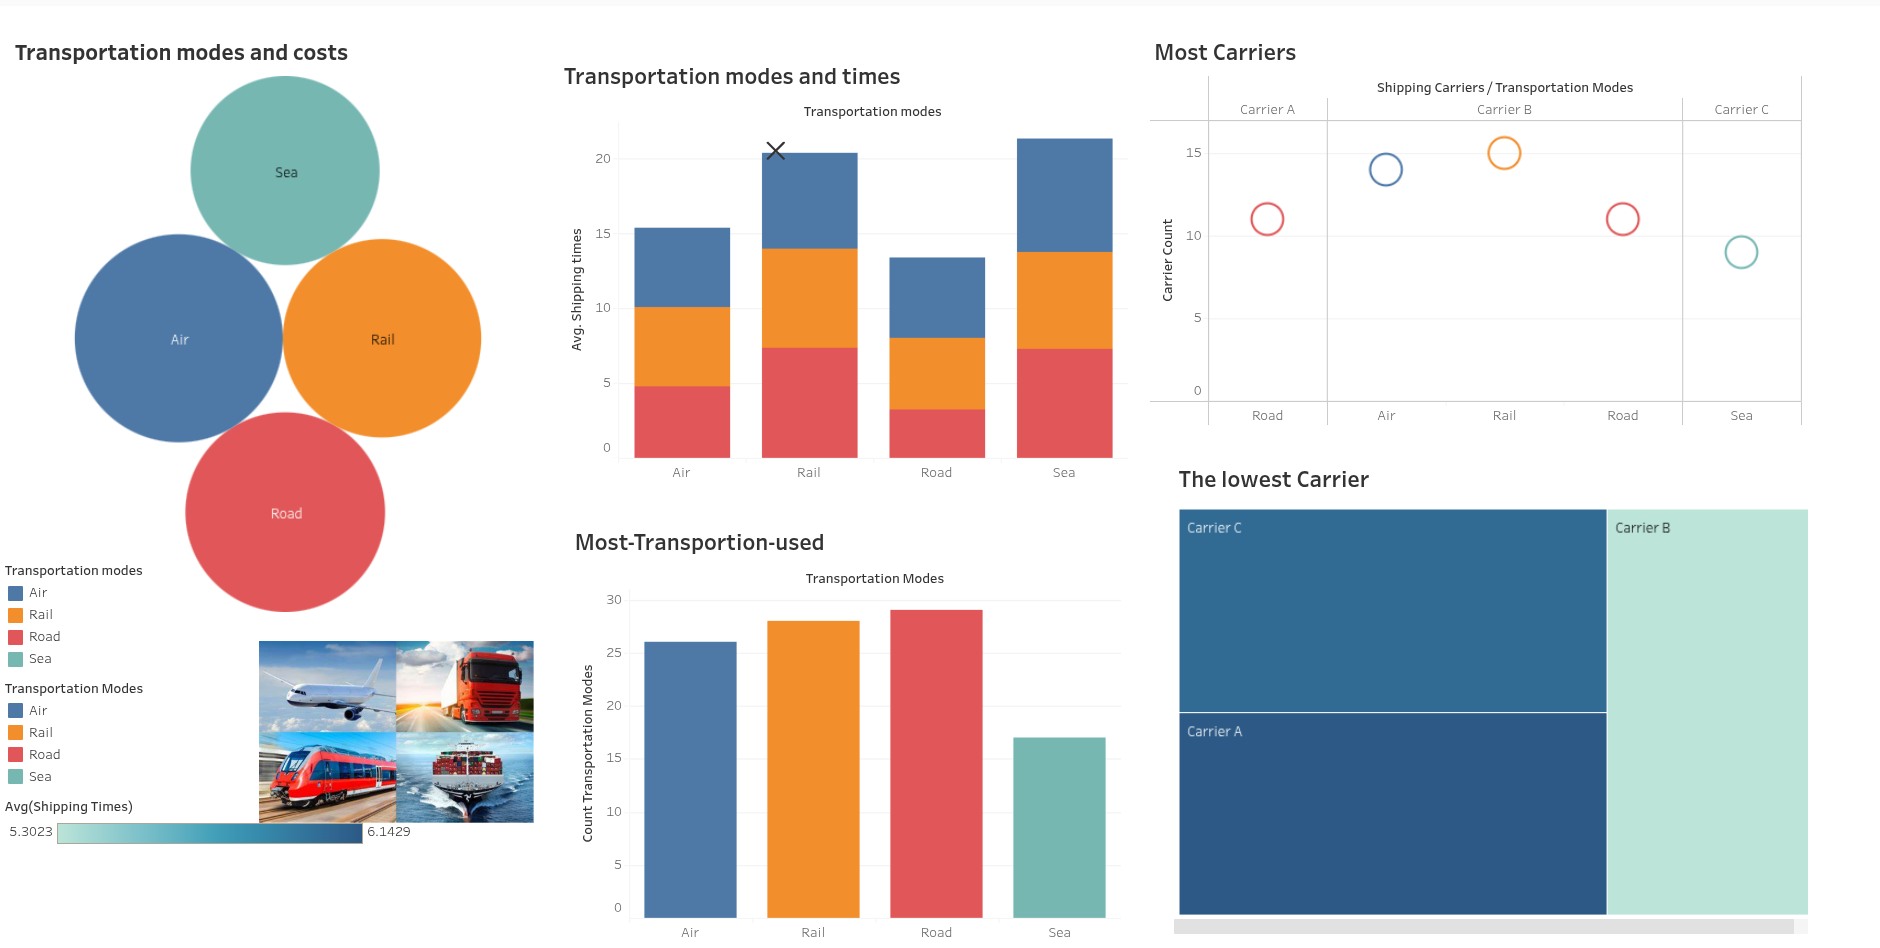

Layout of this report page (visuals, bound fields, positions):
{"tool":"tableau","page":{"name":"Transportation","canvas":[1000,1000],"units":"permille","ordinal":2},"visuals":[{"type":"worksheet","title":"Sheet 1","mark":"Circle","box":[6.5,24.3,278.8,615.9]},{"type":"worksheet","title":"Sheet 4","mark":"Shape","rows":["carrier_count"],"cols":["shipping_carriers","transportation_modes"],"box":[600,24.3,340,420]},{"type":"worksheet","title":"Sheet 2","mark":"Automatic","rows":["Shipping times"],"cols":["Transportation modes"],"box":[292.4,49.9,296.5,453.3]},{"type":"dashboard-object","box":[397.7,138.3,14.1,30.7]},{"type":"worksheet","title":"Sheet 5","mark":"Automatic","box":[612.4,476.3,330.6,509.6]},{"type":"worksheet","title":"Sheet 3","mark":"Automatic","rows":["count_transportation_modes"],"cols":["transportation_modes"],"box":[298.2,542.9,287.1,446.9]},{"type":"legend","title":"Sheet 1","param":"[federated.0bq7jsy11mja5d1g9rk2h06egp4w].[none:Transportation modes:nk]","box":[1.1,582.6,218.9,146]},{"type":"image","box":[135.9,670.9,142.9,193.3]},{"type":"legend","title":"Sheet 4","param":"[federated.0ts3gwk1xsg3rw12f157d0teoee8].[none:transportation_modes:nk]","box":[1.1,728.6,218.9,146]},{"type":"legend","title":"Sheet 5","param":"[federated.0c4roxd062iiom1d00hrd1x7gn03].[sum:avg(shipping_times):qk]","box":[1.1,874.5,218.9,93.5]}]}

Visuals, with their boxes on the dashboard's canvas, which has no fixed pixel size, in thousandths of its width and height (x1, y1, x2, y2). These are canvas units, not pixel positions in the 1880x948 screenshot, which may show the page scaled, cropped or inside an application window:
"Sheet 1" worksheet (Circle marks): [left=6, top=24, right=285, bottom=640]
"Sheet 4" worksheet (Shape marks): [left=600, top=24, right=940, bottom=444]
"Sheet 2" worksheet: [left=292, top=50, right=589, bottom=503]
dashboard-object: [left=398, top=138, right=412, bottom=169]
"Sheet 5" worksheet: [left=612, top=476, right=943, bottom=986]
"Sheet 3" worksheet: [left=298, top=543, right=585, bottom=990]
"Sheet 1" legend: [left=1, top=583, right=220, bottom=729]
image: [left=136, top=671, right=279, bottom=864]
"Sheet 4" legend: [left=1, top=729, right=220, bottom=875]
"Sheet 5" legend: [left=1, top=874, right=220, bottom=968]
